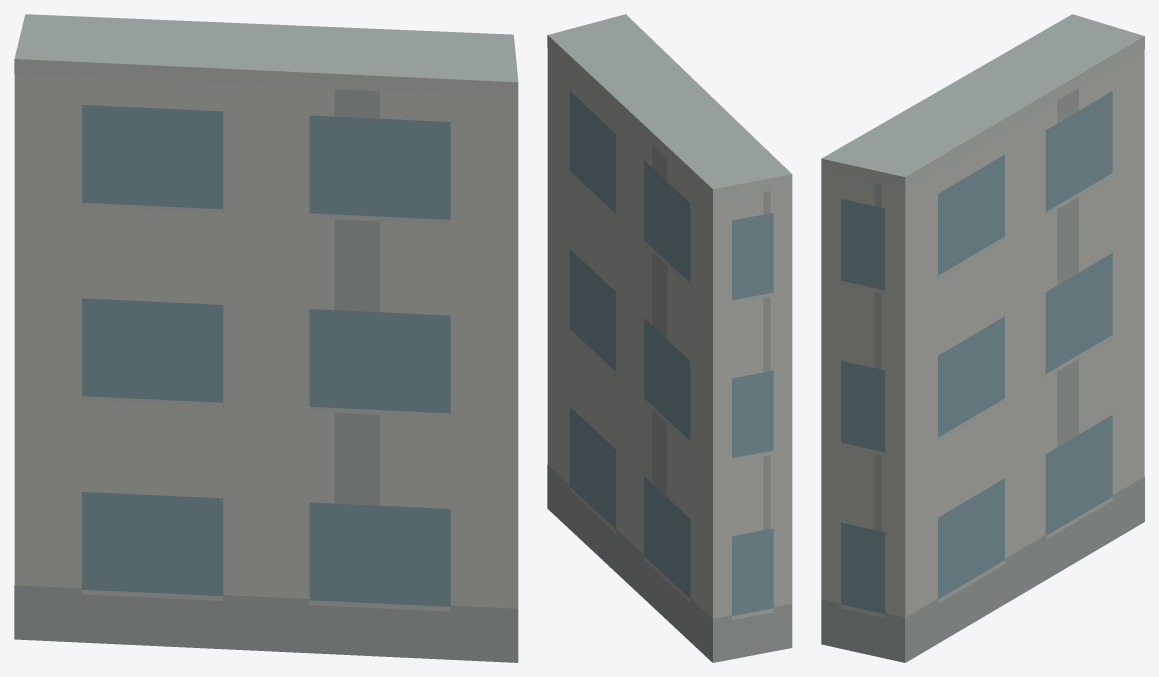
Rendered from survey-upis-32571573.glb.
3 renders of one model, left to right at view 1: azimuth 30°, elevation 25°; view 2: azimuth 150°, elevation 25°; view 3: azimuth 270°, elevation 25°, orthographic. The views are drawn at different scales.
Parts seen in each view (by area): view 1: survey-upis-32571573.tmp; view 2: survey-upis-32571573.tmp; view 3: survey-upis-32571573.tmp.
Boxes of the visible parts, x1,y1,x2,y2 form: survey-upis-32571573.tmp: (14,14,518,662); survey-upis-32571573.tmp: (547,14,792,662); survey-upis-32571573.tmp: (821,14,1144,662).
Bounding box in the file's own units: 6.6 × 9.15 × 5.53.
